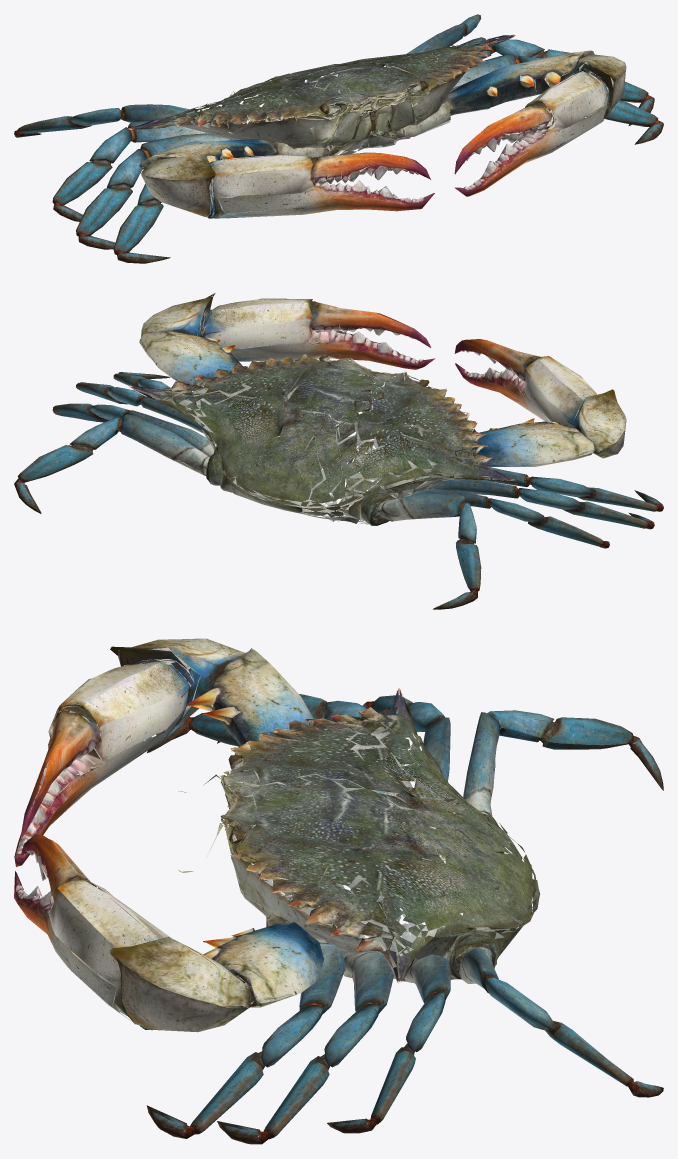
The model's file is crab.glb.
3 renders of one model, top to bottom at view 1: azimuth 30°, elevation 25°; view 2: azimuth 150°, elevation 25°; view 3: azimuth 270°, elevation 25°, orthographic. The views are drawn at different scales.
Parts seen in each view (by area): view 1: body, claw_R, claw_L, leg_R1, leg_R2, leg_R4, leg_R0, leg_L1, leg_L2, leg_L0, leg_L4; view 2: body, claw_L, claw_R, leg_L4, leg_R4, leg_R1, leg_R0, leg_R2, leg_L2, leg_L1, leg_R3, leg_L0; view 3: body, claw_L, claw_R, leg_R4, leg_L1, leg_L0, leg_L2, leg_L4, leg_R2, leg_R0, leg_L3, leg_R1.
Part boxes in pixels (bbox=[...]): body: bbox=[128, 34, 515, 156]; claw_R: bbox=[139, 139, 434, 218]; claw_L: bbox=[385, 50, 626, 196]; leg_R1: bbox=[76, 133, 238, 249]; leg_R2: bbox=[52, 120, 232, 221]; leg_R4: bbox=[14, 104, 210, 137]; leg_R0: bbox=[113, 147, 230, 263]; leg_L1: bbox=[390, 54, 654, 125]; leg_L2: bbox=[375, 37, 588, 106]; leg_L0: bbox=[390, 85, 663, 144]; leg_L4: bbox=[385, 14, 481, 67]; body: bbox=[128, 354, 514, 524]; claw_L: bbox=[139, 293, 435, 436]; claw_R: bbox=[384, 339, 626, 466]; leg_L4: bbox=[14, 414, 209, 513]; leg_R4: bbox=[377, 493, 481, 609]; leg_R1: bbox=[384, 474, 654, 529]; leg_R0: bbox=[393, 456, 663, 511]; leg_R2: bbox=[390, 488, 609, 548]; leg_L2: bbox=[52, 403, 216, 456]; leg_L1: bbox=[76, 382, 205, 433]; leg_R3: bbox=[360, 484, 394, 525]; leg_L0: bbox=[113, 372, 280, 437]; body: bbox=[178, 688, 539, 983]; claw_L: bbox=[14, 834, 324, 1032]; claw_R: bbox=[14, 638, 313, 866]; leg_R4: bbox=[463, 710, 663, 815]; leg_L1: bbox=[217, 937, 393, 1144]; leg_L0: bbox=[146, 923, 345, 1138]; leg_L2: bbox=[327, 954, 450, 1133]; leg_L4: bbox=[459, 947, 663, 1097]; leg_R2: bbox=[362, 695, 450, 861]; leg_R0: bbox=[147, 712, 339, 867]; leg_L3: bbox=[434, 927, 497, 979]; leg_R1: bbox=[217, 694, 389, 865].
Bounding box in the file's own units: 0.34 × 0.0538 × 0.2133.
2 materials, 2 textured.
